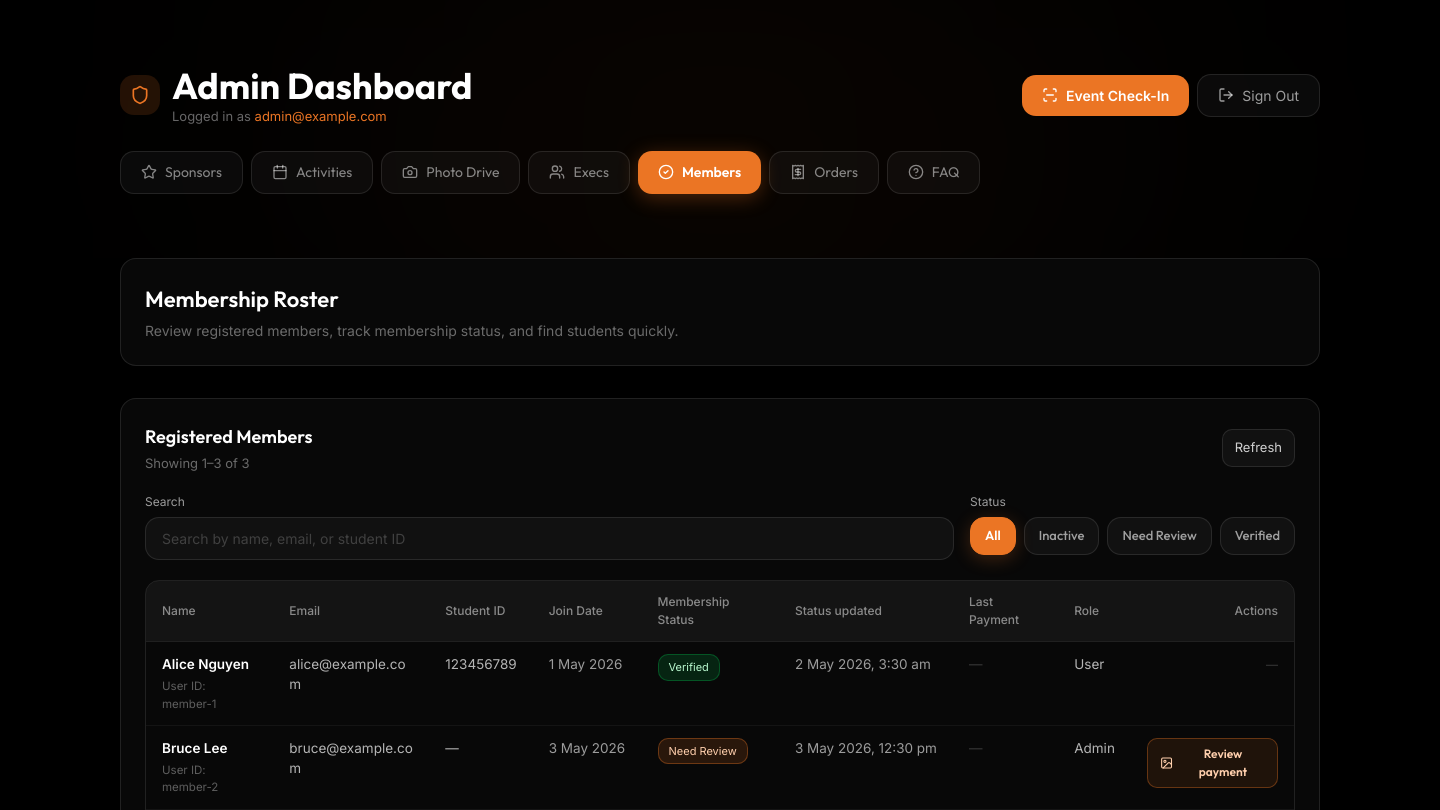
Scenario: Admin membership roster › refreshes the All roster so an approved member reappears as Verified
This screenshot has width=1440, height=810.
Expected: the text "Bruce Lee" is shown, top-left (162, 740), bottom-right (227, 756)
Click the button "Review payment". click: (1212, 763)
box: top-left (1147, 738), bottom-right (1278, 788)
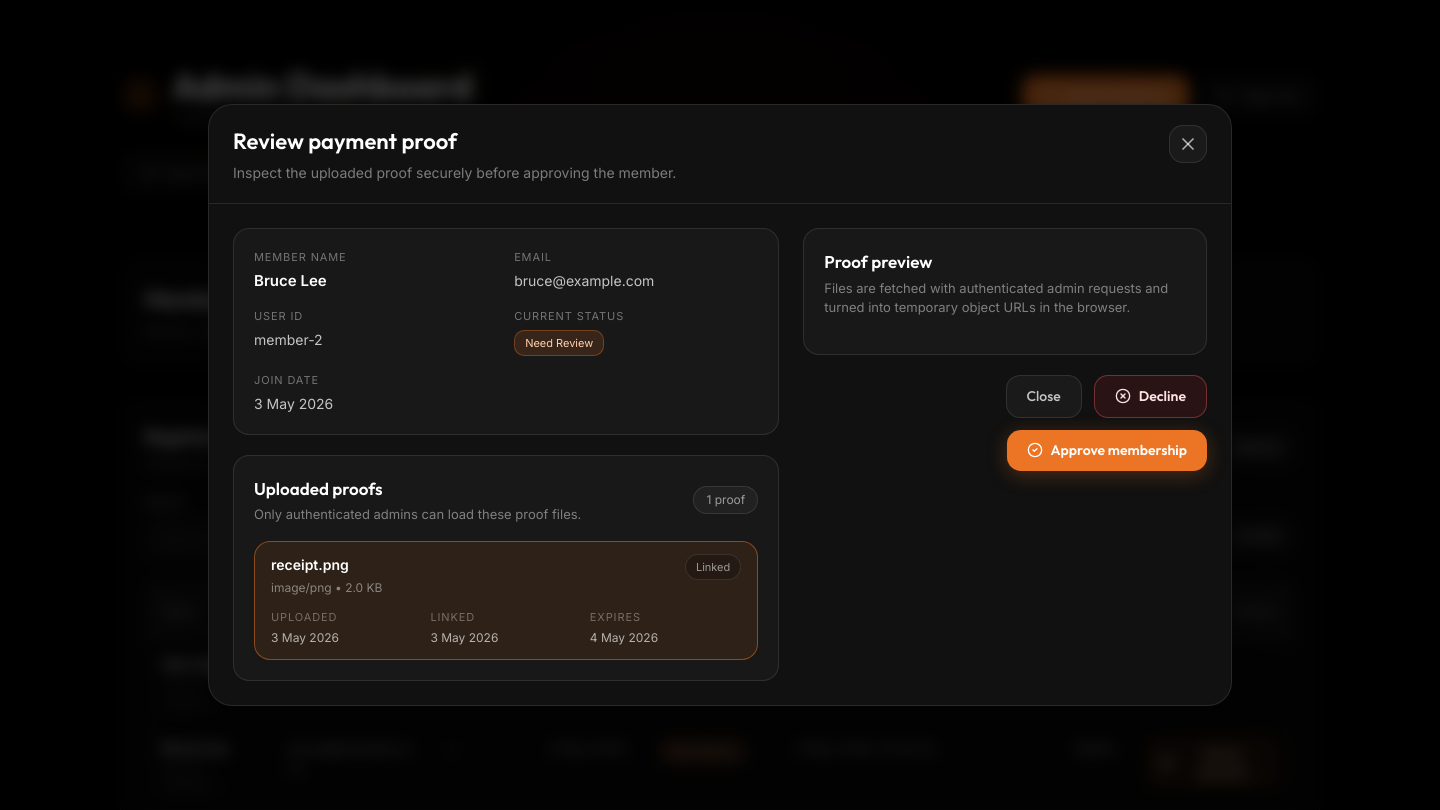
Click the button "Approve membership". click: (1107, 450)
box: top-left (1007, 430), bottom-right (1207, 470)
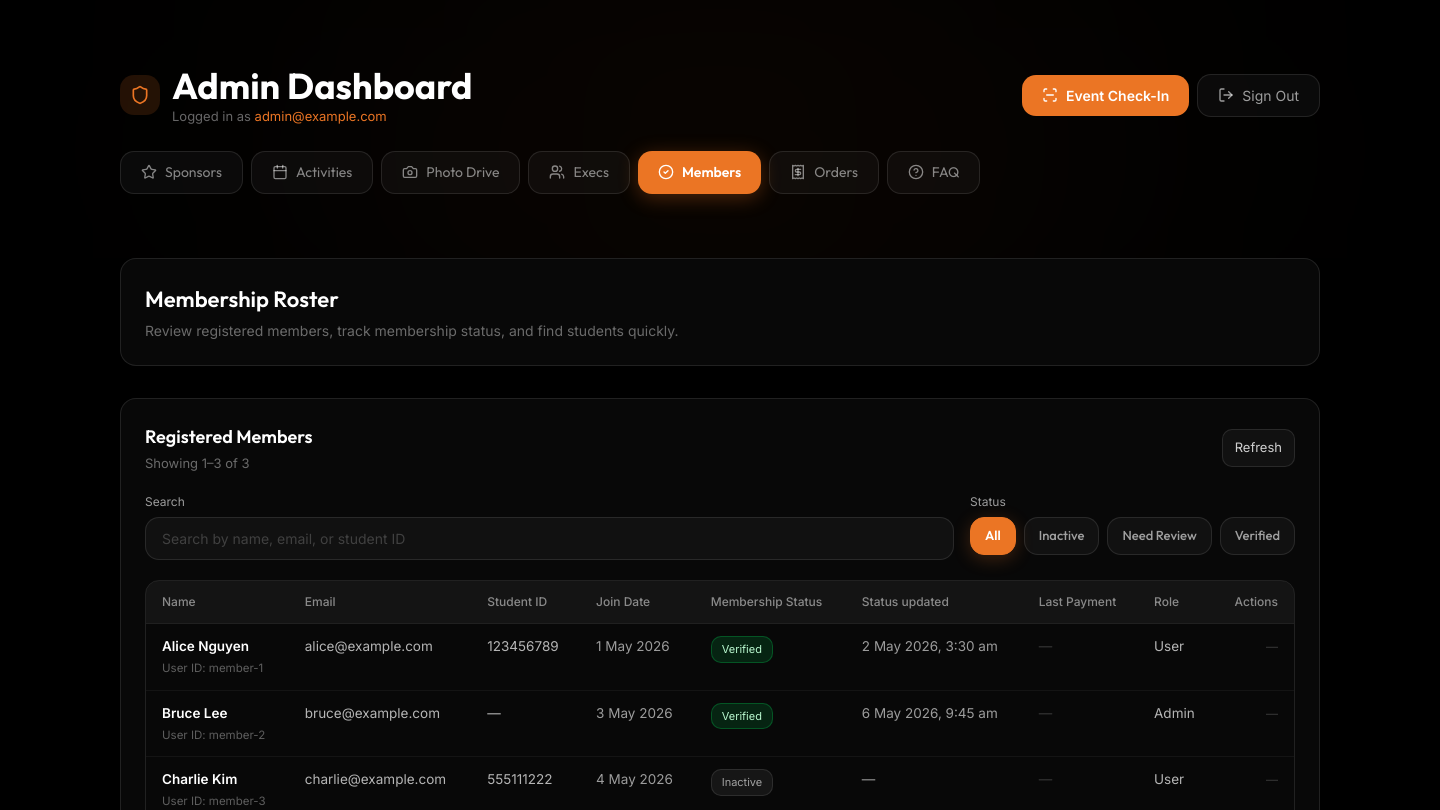
Expected: the text "Bruce Lee" is shown, top-left (162, 705), bottom-right (227, 721)
Result: the text "Verified" in the row of "Bruce Lee" is shown at top-left (722, 709), bottom-right (762, 723)
Result: the button "Review payment" is gone
